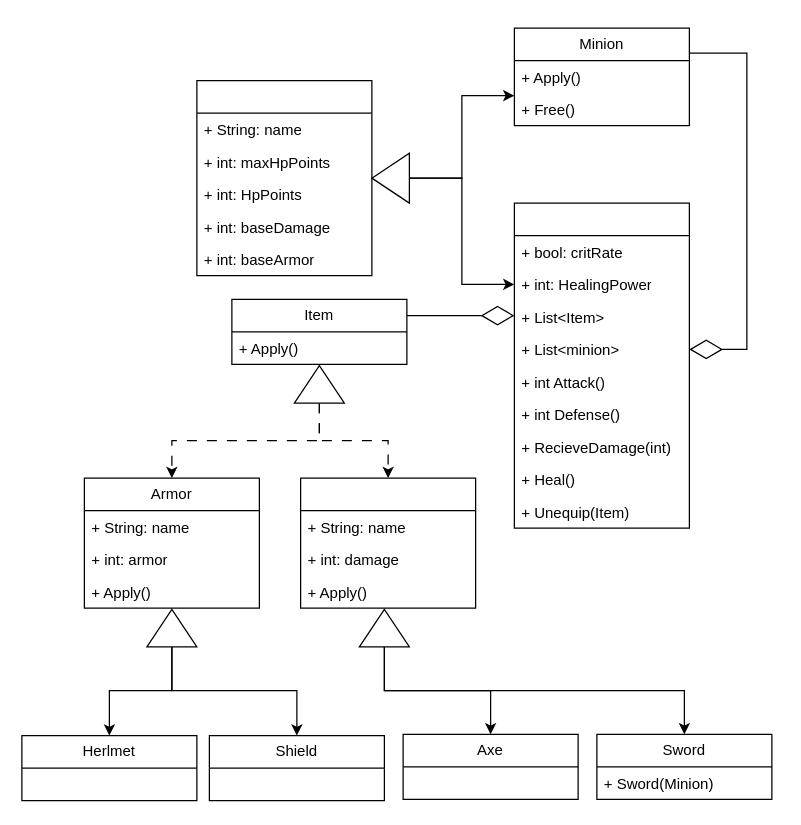
This 801x825 diagram has some shape labels left out. Each missing label, with the box of its shape:
Character: (513, 202, 689, 528)
Creature: (196, 79, 372, 276)
Weapon: (299, 477, 476, 608)
